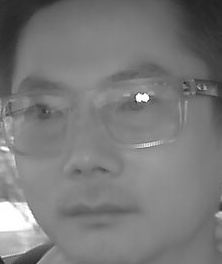eye: (22, 102, 63, 125)
glass: (96, 78, 185, 148), (3, 88, 67, 156)
mouth: (63, 196, 132, 234)
